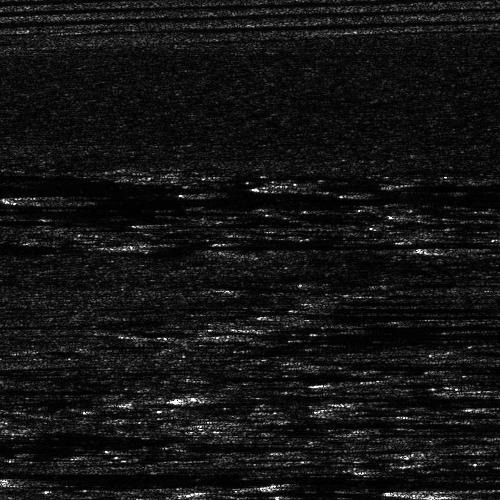rock: (243, 391, 462, 412), (371, 485, 496, 496), (139, 490, 274, 500), (420, 383, 500, 398), (295, 361, 388, 372), (99, 237, 172, 250), (425, 345, 500, 356), (0, 191, 91, 200), (137, 390, 210, 401), (420, 242, 500, 251), (0, 474, 53, 485), (463, 470, 500, 481), (105, 221, 178, 226), (240, 312, 313, 317), (175, 373, 216, 378), (375, 181, 416, 186), (310, 298, 351, 303), (250, 185, 281, 188), (158, 445, 189, 448)
shadow: (0, 178, 354, 195), (12, 474, 500, 485), (136, 237, 500, 250), (174, 390, 500, 401), (353, 391, 500, 412), (0, 204, 78, 235), (207, 490, 415, 500), (342, 361, 481, 372), (277, 312, 479, 317), (0, 383, 81, 392), (266, 185, 500, 188), (331, 298, 467, 303), (196, 373, 330, 378), (142, 221, 270, 226), (39, 191, 101, 200), (396, 181, 500, 186), (0, 444, 57, 453), (174, 445, 307, 448), (467, 345, 500, 356), (478, 383, 500, 398), (467, 242, 500, 251)
